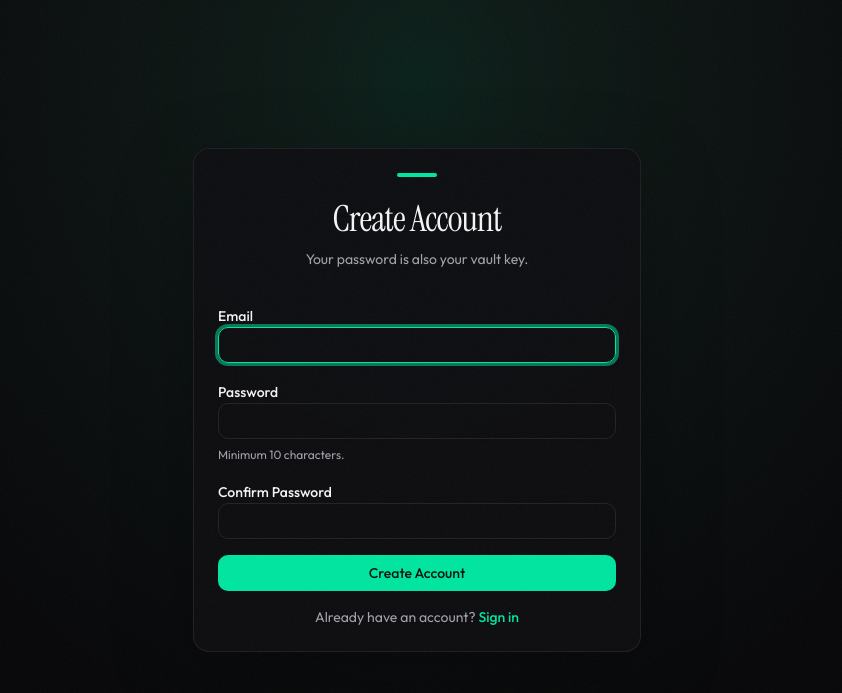
Test case: RegisterPage › shows the verification state after a successful registration
Type "new.user@example.com" into the field labelled "Email" at (417, 345), box [218,327,616,363]
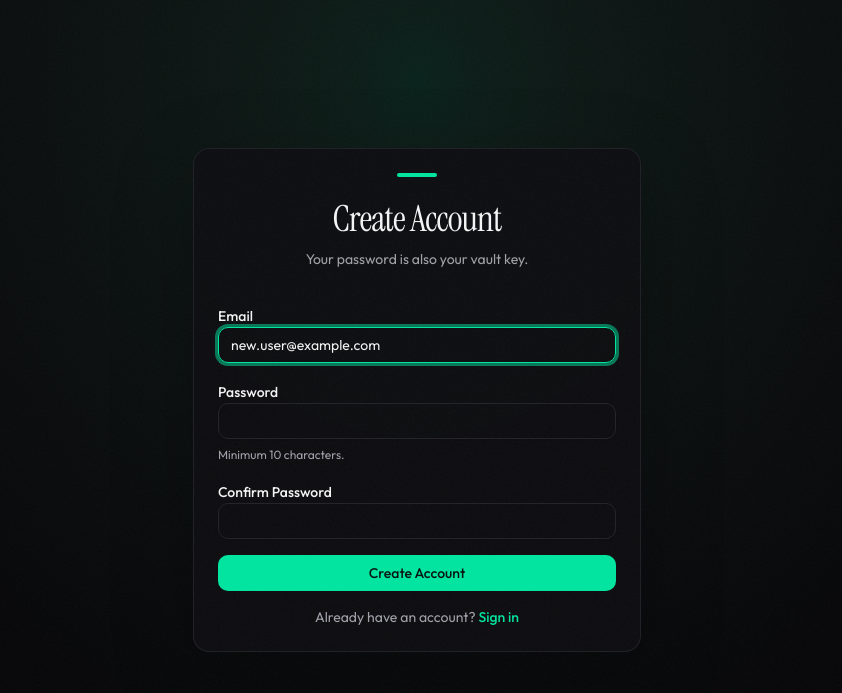
Type "ArsenaleTemp91Qx" into the password field labelled "Password" at (417, 421), box [218,403,616,439]
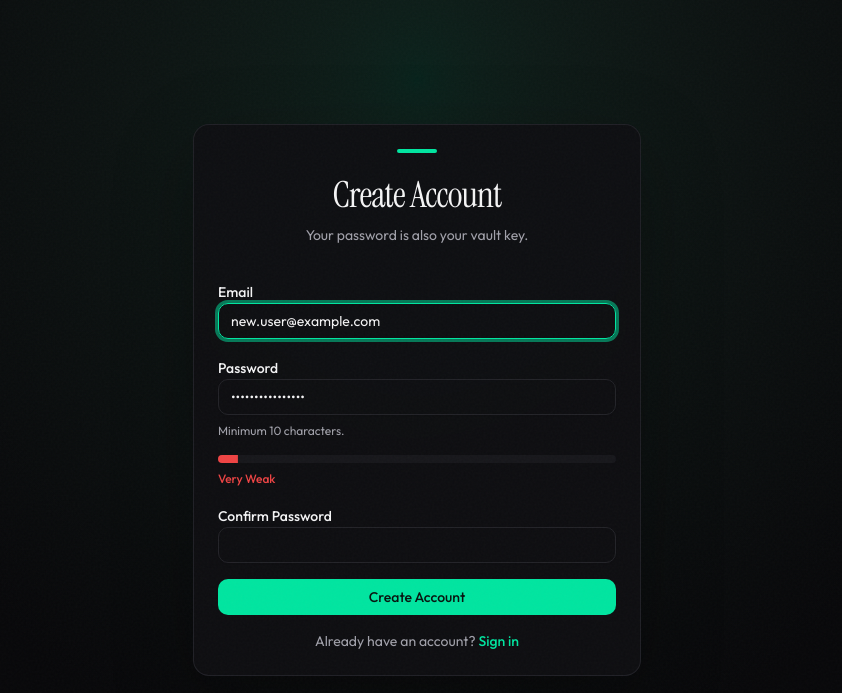
Type "ArsenaleTemp91Qx" into the password field labelled "Confirm Password" at (417, 545), box [218,527,616,563]
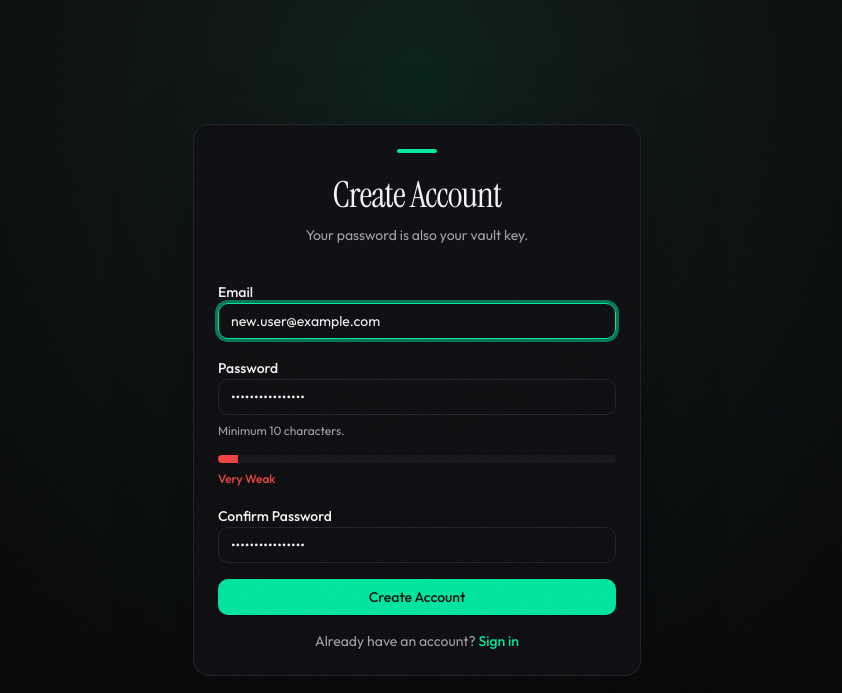
Click the button "Create Account" at (417, 597), box [218,579,616,615]
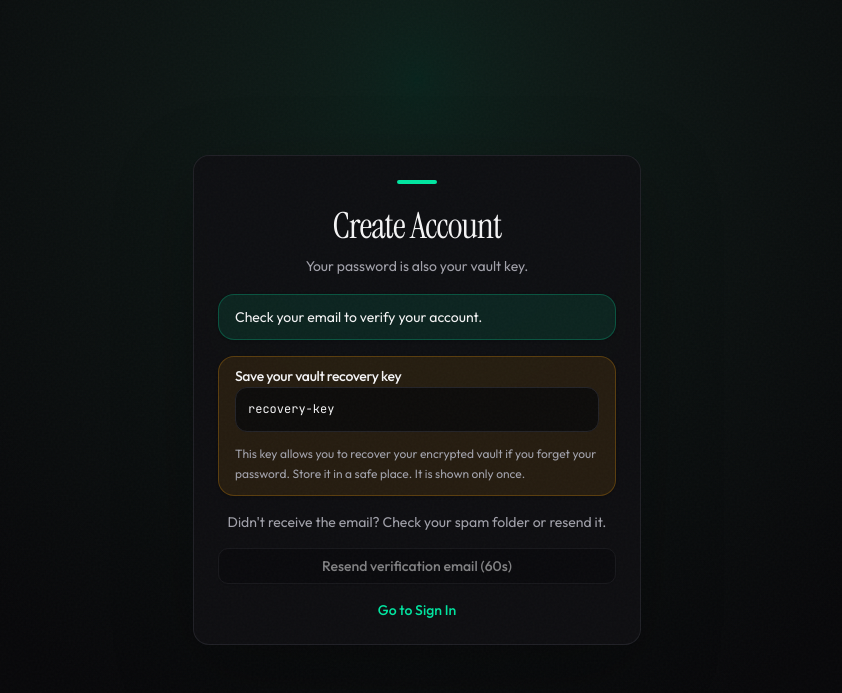
Expected: the text "Check your email to verify your account." is shown, [235,308,482,326]
Expected: the text "Save your vault recovery key" is shown, [235,367,401,385]
Expected: the text "recovery-key" is shown, [248,401,334,417]
